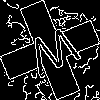W: (25, 25, 86, 85)
